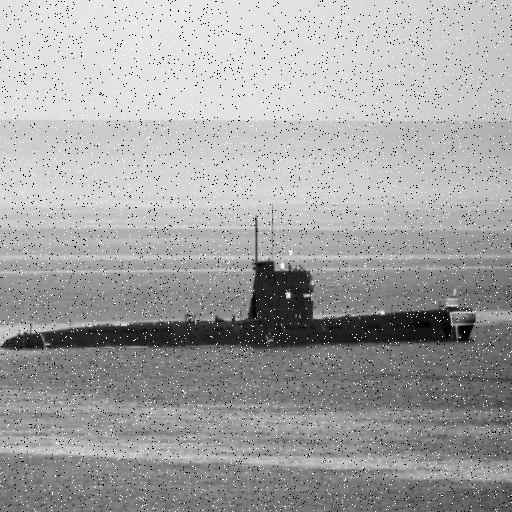submarine: (4, 201, 479, 350)
